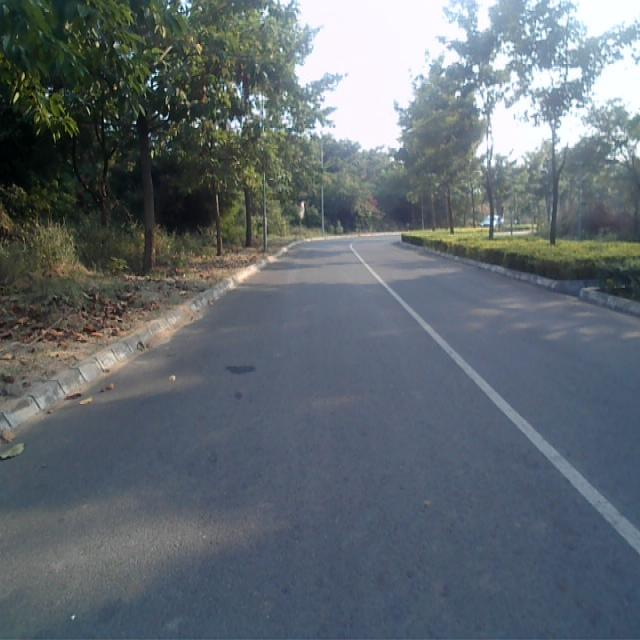lane: (0, 240, 640, 640)
